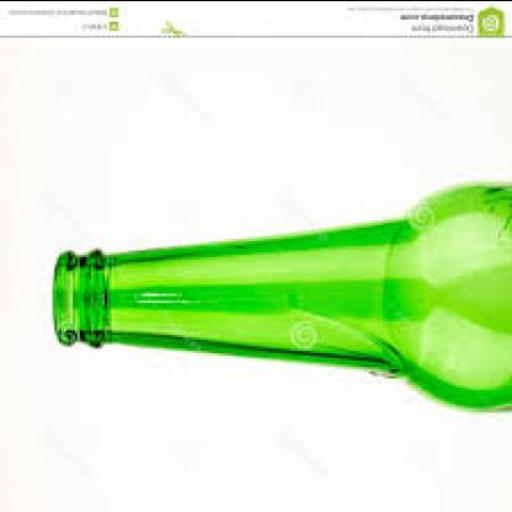glass: (50, 187, 510, 414)
